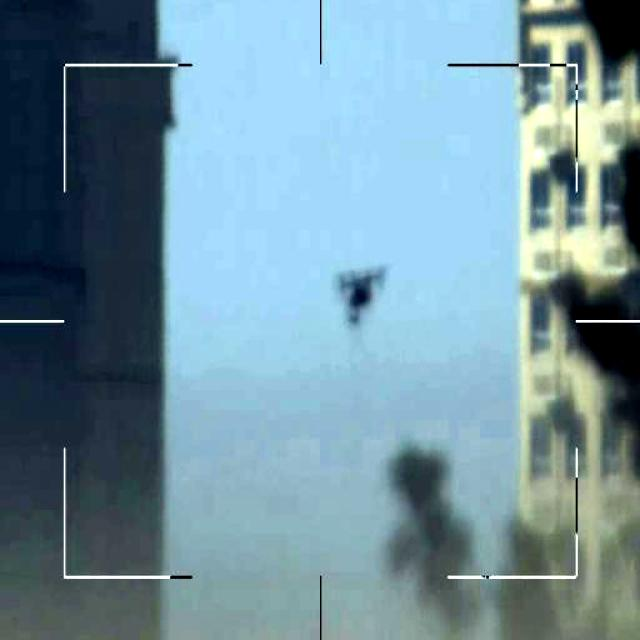bird: (334, 264, 392, 330)
